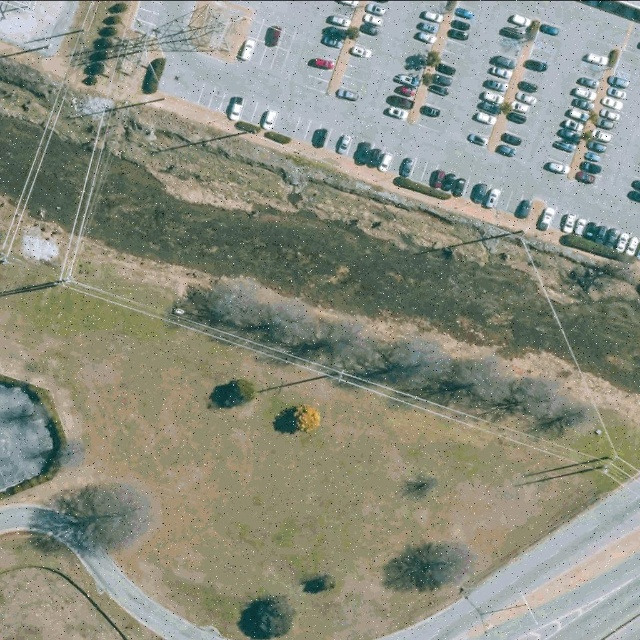vegetation: (170, 284, 581, 430), (388, 544, 476, 592), (242, 602, 292, 638)
